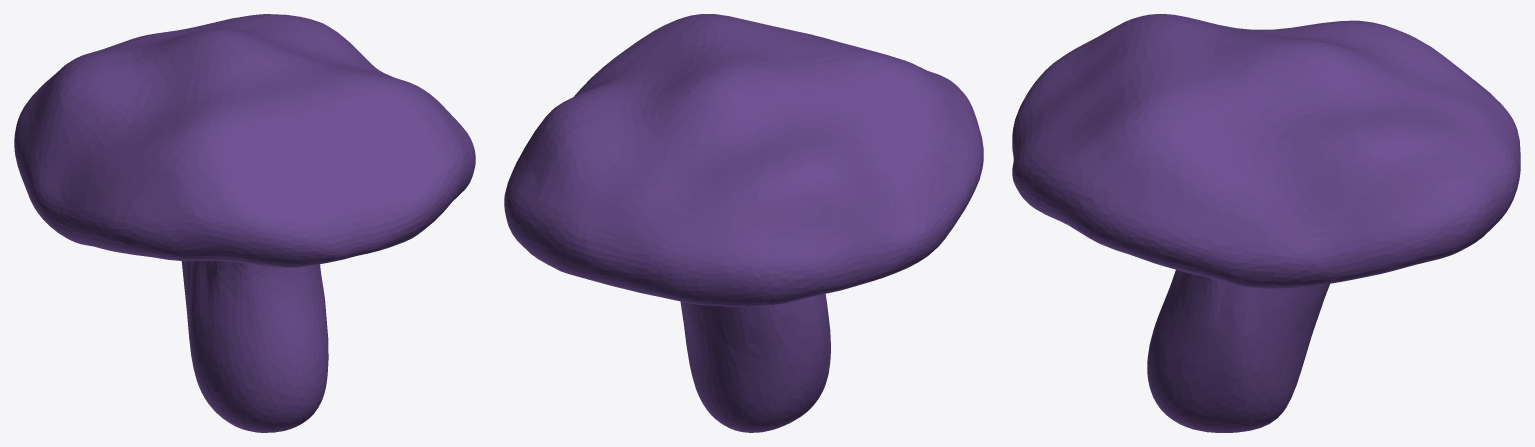
The model's file is grzyb_movable.fbx.
The picture shows the model from 3 angles, left to right: view 1: azimuth 30°, elevation 25°; view 2: azimuth 150°, elevation 25°; view 3: azimuth 270°, elevation 25°; orthographic projection. The views are drawn at different scales.
Visible parts, largest first — view 1: grzyb 2; view 2: grzyb 2; view 3: grzyb 2.
Part boxes in pixels (bbox=[...]): grzyb 2: bbox=[14, 14, 475, 432]; grzyb 2: bbox=[504, 14, 983, 432]; grzyb 2: bbox=[1012, 14, 1520, 432].
Bounding box in the file's own units: 8.35 × 7.57 × 9.19.
